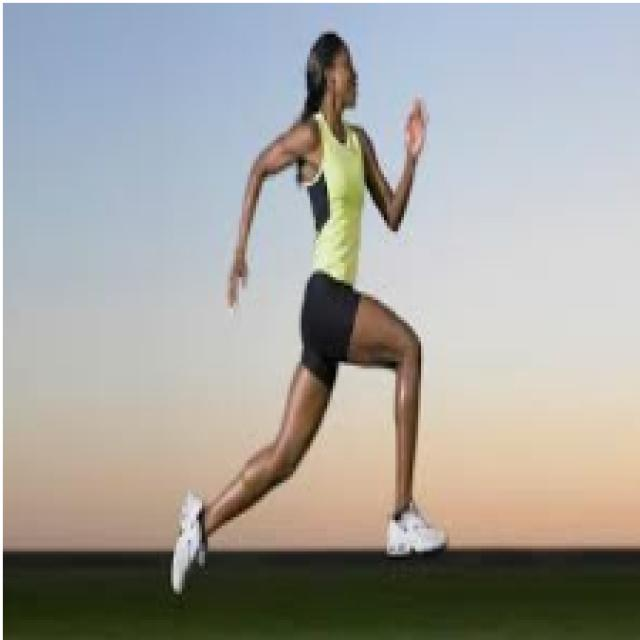running: (165, 31, 452, 599)
